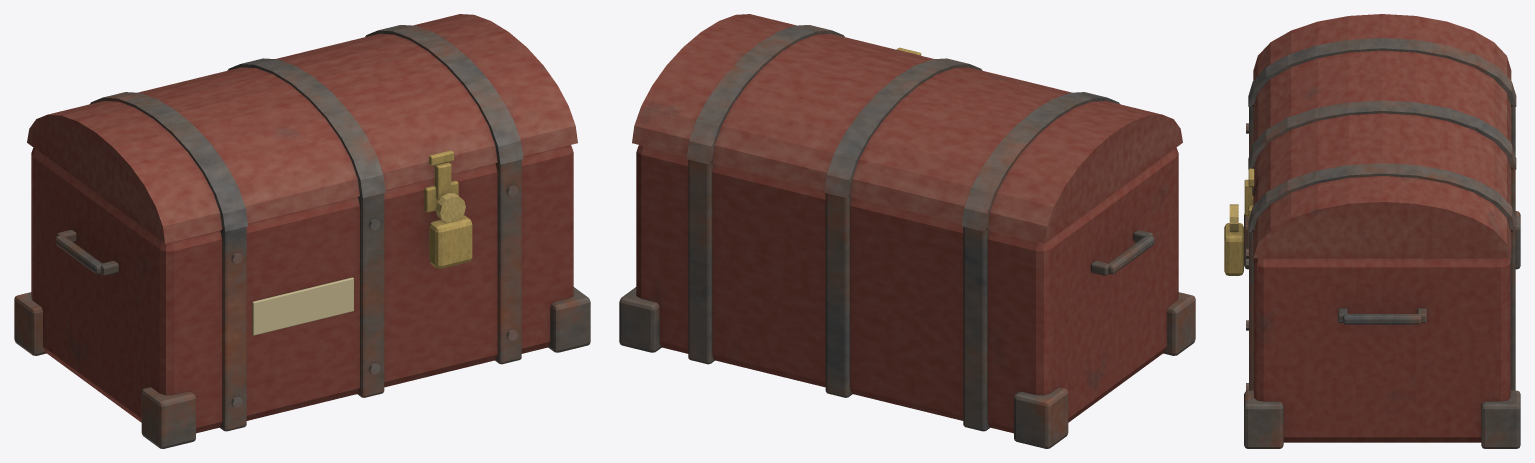
The model's file is poi_collector_mine.glb.
3 renders of one model, left to right at view 1: azimuth 30°, elevation 25°; view 2: azimuth 150°, elevation 25°; view 3: azimuth 270°, elevation 25°, orthographic. The views are drawn at different scales.
Visible parts, largest first — view 1: poi_collector_mine; view 2: poi_collector_mine; view 3: poi_collector_mine.
Part boxes in pixels (x1,y1,x2,y2): poi_collector_mine: [14, 14, 590, 448]; poi_collector_mine: [619, 14, 1195, 448]; poi_collector_mine: [1224, 14, 1520, 448].
Size of the model in its own units: 0.99 by 0.551 by 0.6.
4 materials, 4 textured.
